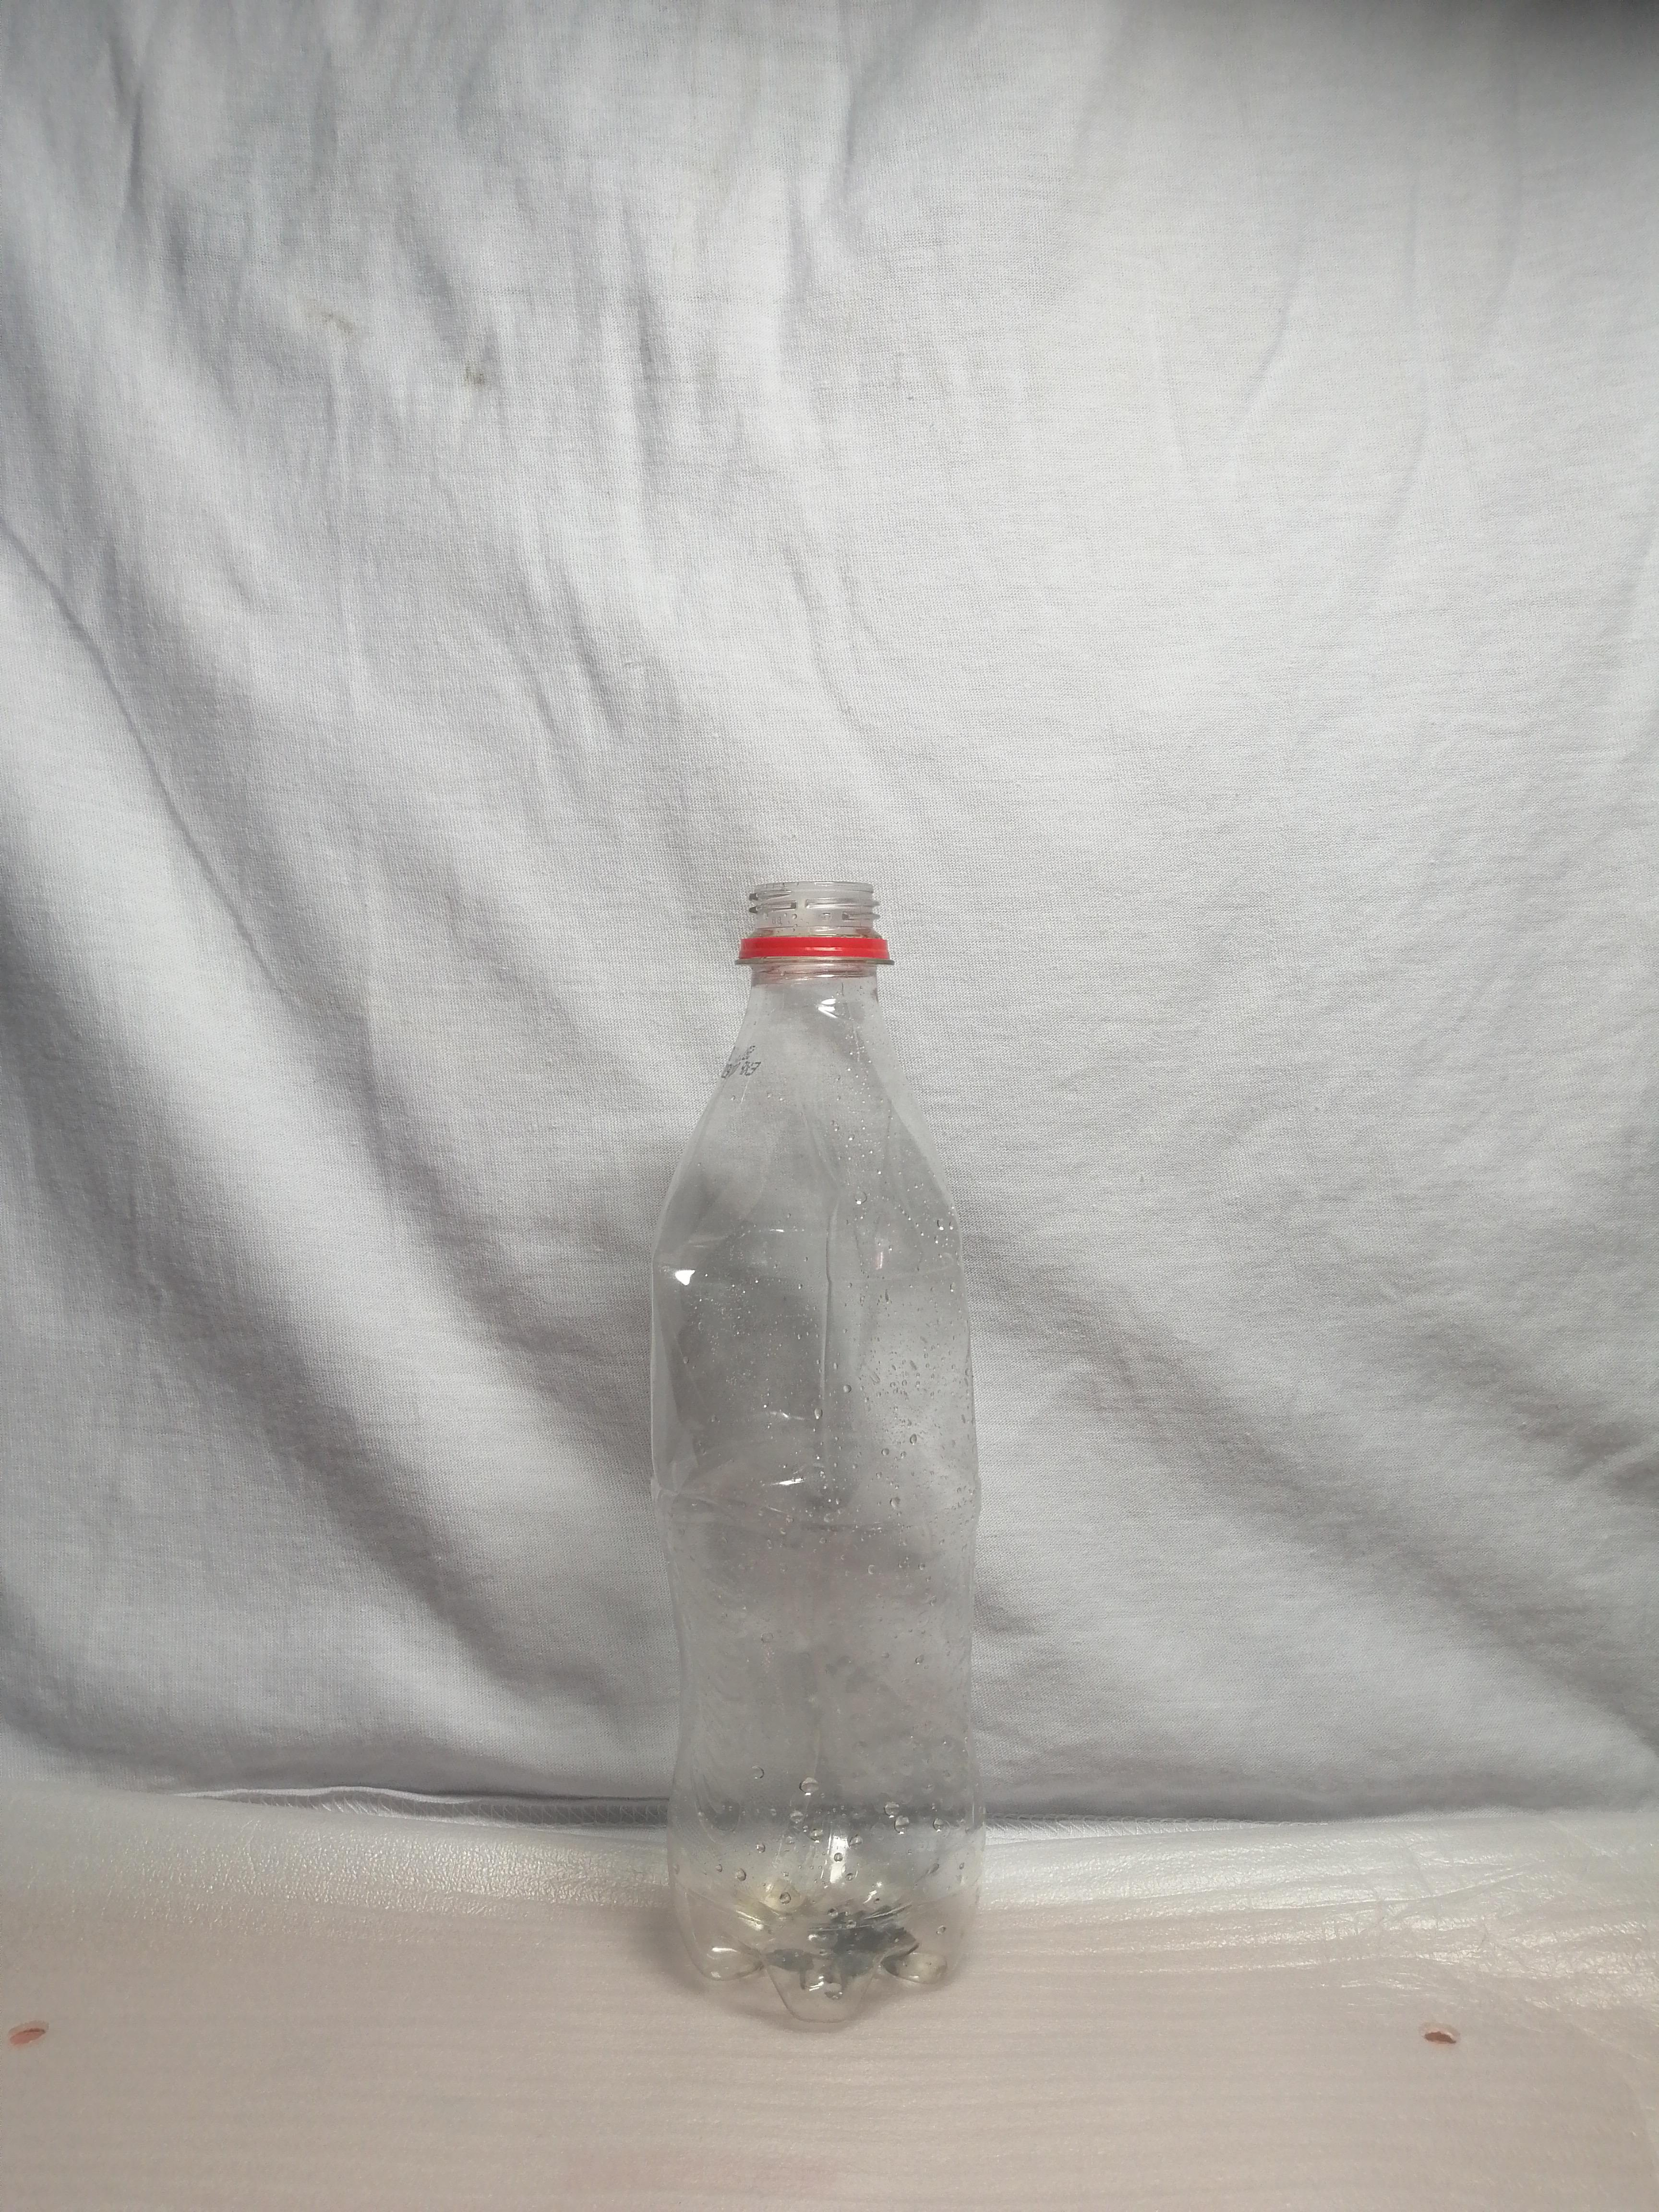plastic-bottle: (600, 854, 1070, 2127)
